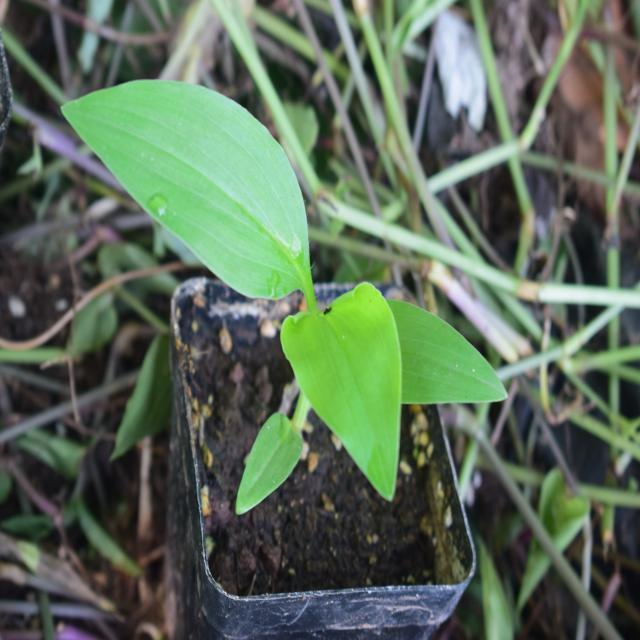Common Dayflower: (66, 81, 443, 489)
